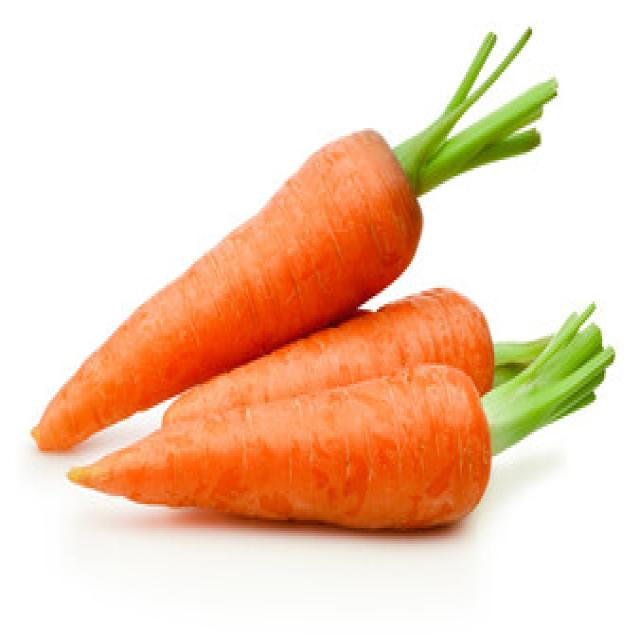Carrot: (28, 24, 557, 451), (64, 293, 614, 531)
